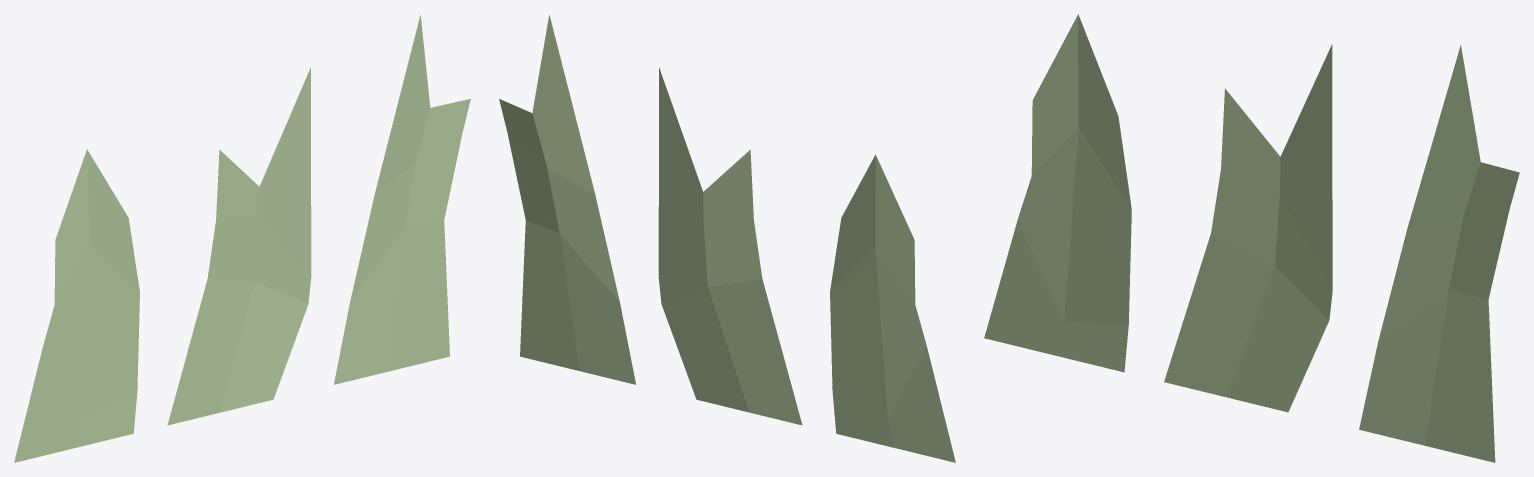
File: Dead grass 2.fbx
3 renders of one model, left to right at view 1: azimuth 30°, elevation 25°; view 2: azimuth 150°, elevation 25°; view 3: azimuth 330°, elevation 25°, orthographic. The views are drawn at different scales.
Parts seen in each view (by area): view 1: Dead grass 2; view 2: Dead grass 2; view 3: Dead grass 2.
Part boxes in pixels (box(x1,y1,x2,y2)): Dead grass 2: box(14, 15, 470, 462); Dead grass 2: box(499, 15, 955, 462); Dead grass 2: box(984, 14, 1519, 462).
Bounding box in the file's own units: 13 × 9.51 × 0.1794.
